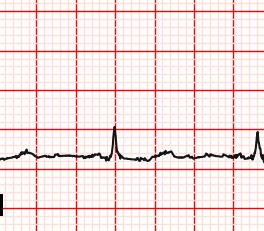Poor R Progression: (107, 123, 124, 163)
